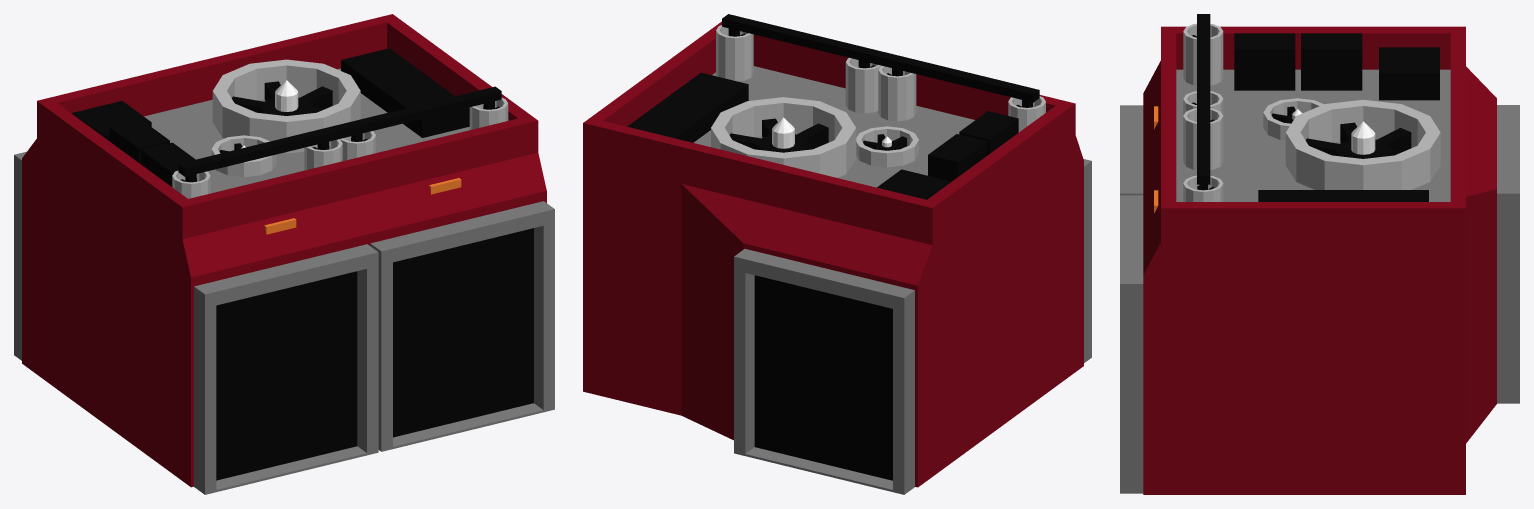
Rendered from Divider2-0.fbx.
3 renders of one model, left to right at view 1: azimuth 30°, elevation 25°; view 2: azimuth 150°, elevation 25°; view 3: azimuth 270°, elevation 25°, orthographic. The views are drawn at different scales.
Parts seen in each view (by area): view 1: DistributorR; view 2: DistributorR; view 3: DistributorR.
Part boxes in pixels (bbox=[...]): DistributorR: bbox=[14, 14, 554, 494]; DistributorR: bbox=[583, 14, 1091, 494]; DistributorR: bbox=[1120, 14, 1519, 494].
Bounding box in the file's own units: 400 × 318 × 372.
